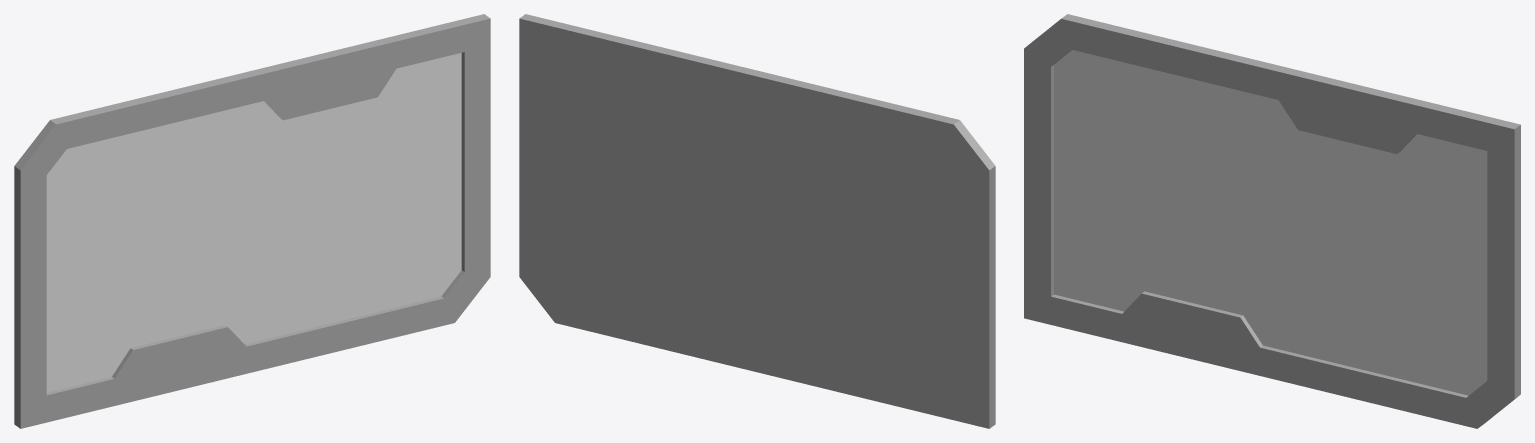
Rendered from key.fbx.
3 renders of one model, left to right at view 1: azimuth 30°, elevation 25°; view 2: azimuth 150°, elevation 25°; view 3: azimuth 330°, elevation 25°, orthographic. The views are drawn at different scales.
Parts seen in each view (by area): view 1: card; view 2: card; view 3: card.
Part boxes in pixels (x1=…): card: x1=14, y1=14, x2=490, y2=428; card: x1=519, y1=14, x2=995, y2=428; card: x1=1024, y1=14, x2=1520, y2=428.
Size of the model in its own units: 12.54 by 7.54 by 0.2863.
